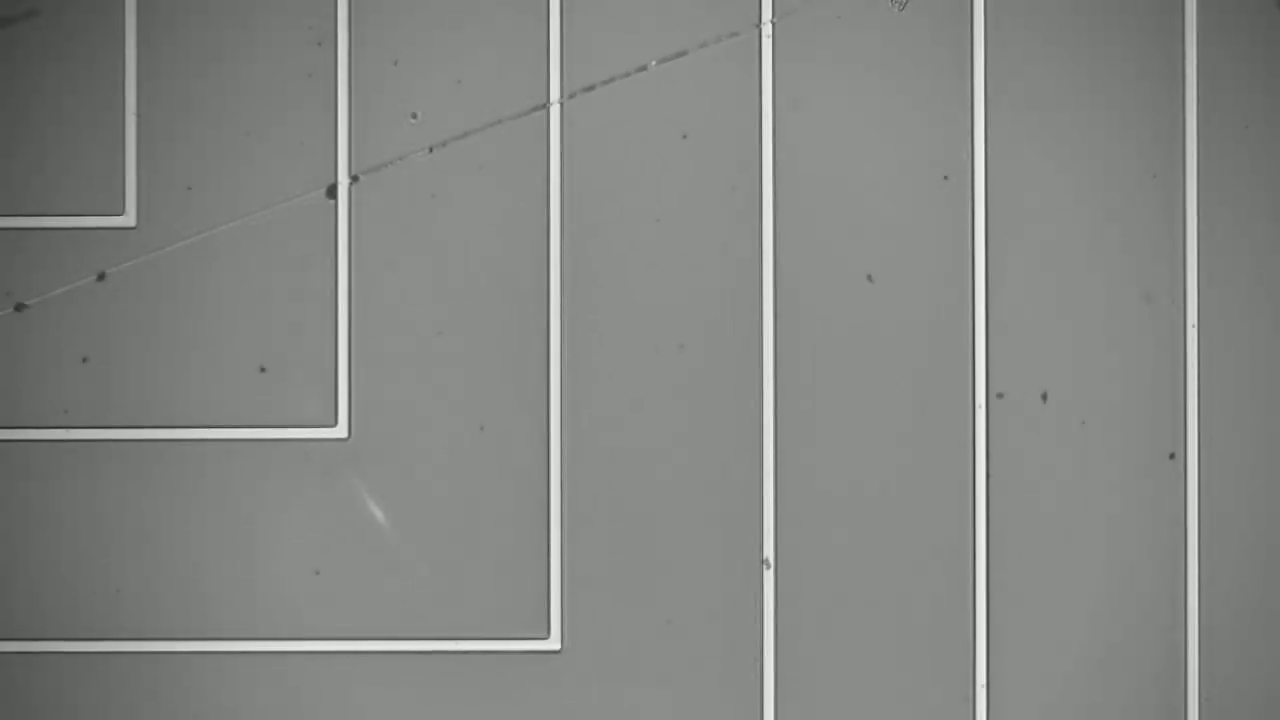scratch: (13, 27, 751, 313)
stains_enbedded: (750, 549, 784, 582)
